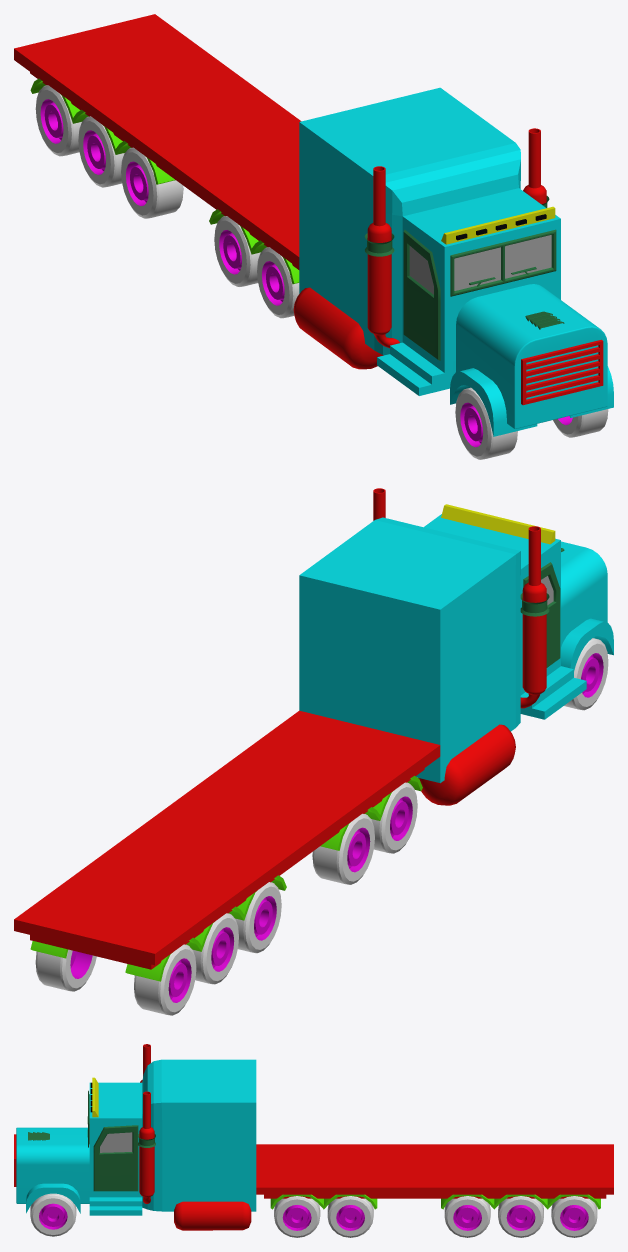
File: Truck FIXED.fbx
3 views of the same model, one above another, from view 1: azimuth 30°, elevation 25°; view 2: azimuth 150°, elevation 25°; view 3: azimuth 270°, elevation 25° (orthographic). The views are drawn at different scales.
Visible parts, largest first — view 1: Truck_high; view 2: Truck_high; view 3: Truck_high.
Boxes of the visible parts, x1=… form: Truck_high: x1=14, y1=14, x2=613, y2=459; Truck_high: x1=14, y1=488, x2=613, y2=1015; Truck_high: x1=14, y1=1044, x2=613, y2=1237.
Size of the model in its own units: 1.98 by 2.5 by 9.07.
